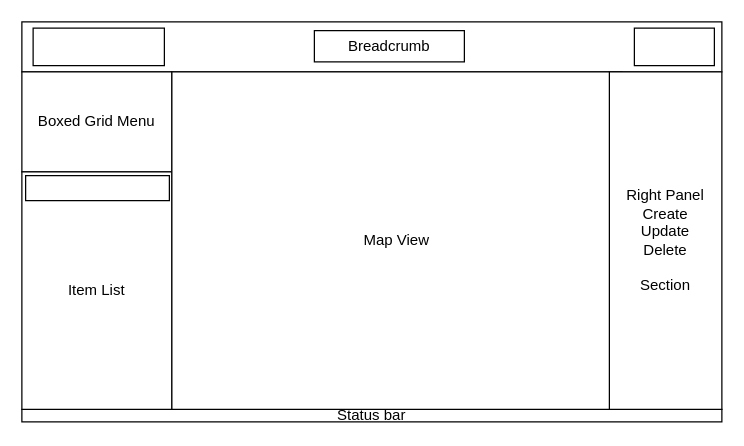
The diagram is 744 pixels wide and 446 high, and some of its shapes have lost their labels. The centre of each missing label's shape, as x and y in pixels:
"Item List Commands" goes at [96,187].
"Logo" goes at [98,46].
"User Box" goes at [673,46].
